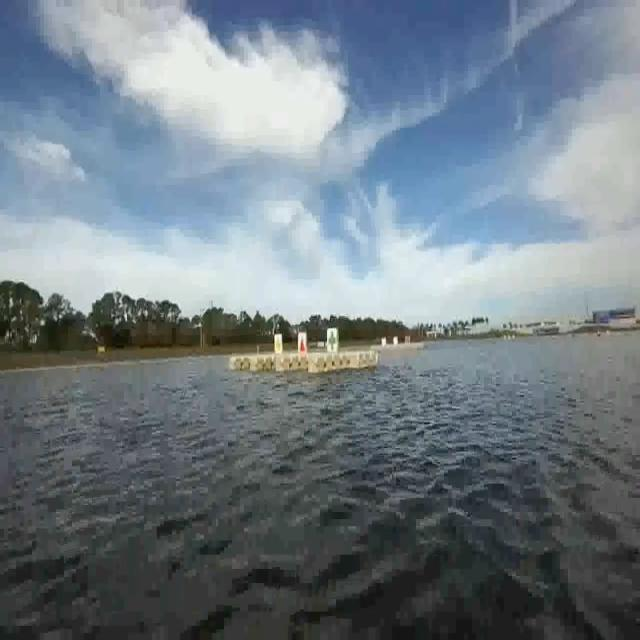blue-cross: (328, 326, 338, 353)
red-dot: (296, 328, 307, 357)
yellow-duck: (272, 336, 283, 358)
